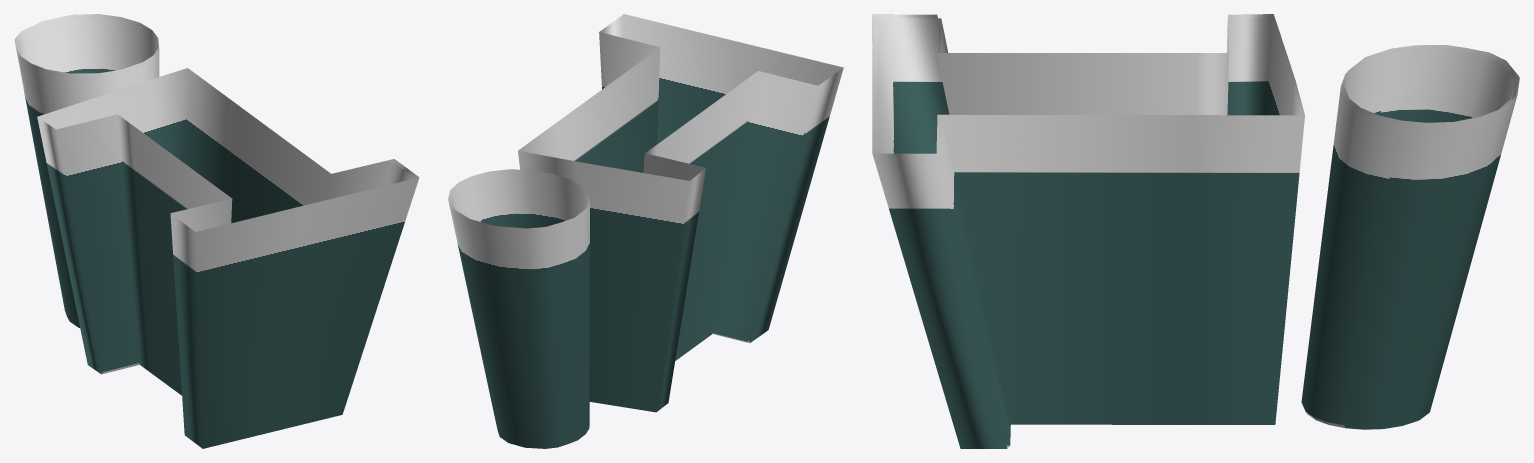
File: Ray.fbx
The picture shows the model from 3 angles, left to right: view 1: azimuth 30°, elevation 25°; view 2: azimuth 150°, elevation 25°; view 3: azimuth 270°, elevation 25°; orthographic projection. The views are drawn at different scales.
Parts seen in each view (by area): view 1: pCube13; view 2: pCube13; view 3: pCube13.
Boxes of the visible parts, bbox=[...] form: pCube13: bbox=[14, 14, 419, 448]; pCube13: bbox=[448, 14, 843, 448]; pCube13: bbox=[872, 14, 1519, 448].
Size of the model in its own units: 0.2368 by 0.2541 by 0.4639.
1 material, 1 textured.
